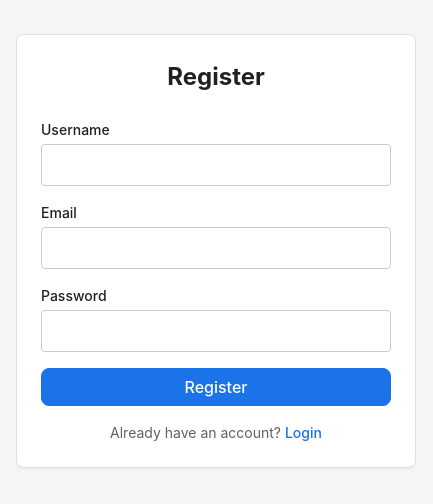
Test: RegisterPage › displays error message on registration failure
This screenshot has width=433, height=504.
Type "testuser" into the field labelled "Username" at coordinates (216, 165), box top-left (41, 144), bottom-right (391, 186)
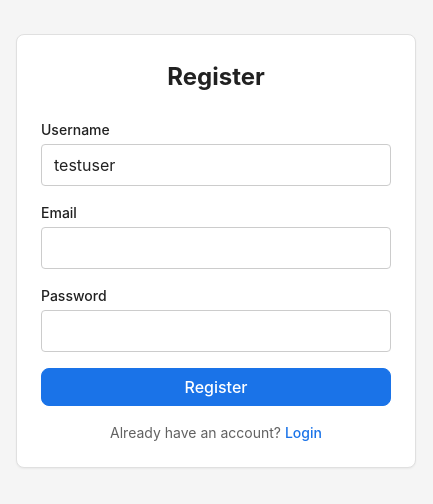
Type "a@b.com" into the field labelled "Email" at coordinates (216, 248), box top-left (41, 227), bottom-right (391, 269)
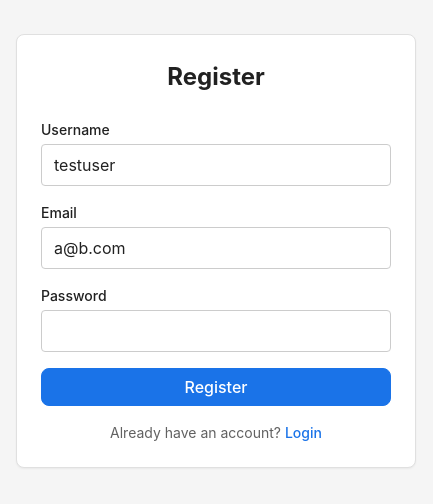
Type "password123" into the password field labelled "Password" at coordinates (216, 331), box top-left (41, 310), bottom-right (391, 352)
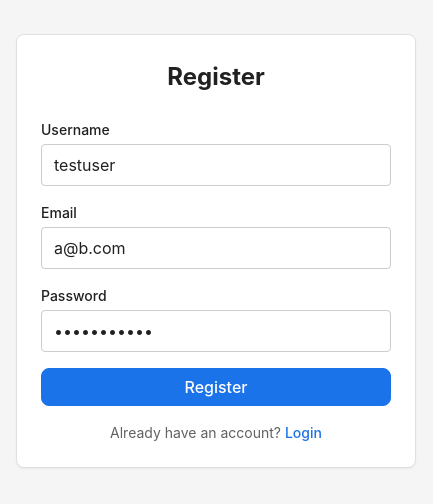
Click the button "Register" at coordinates (216, 387), box top-left (41, 368), bottom-right (391, 406)
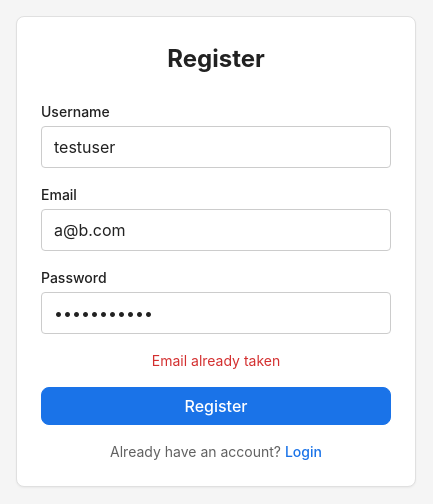
Expected: the message reads "Email already taken", top-left (152, 352), bottom-right (280, 368)
